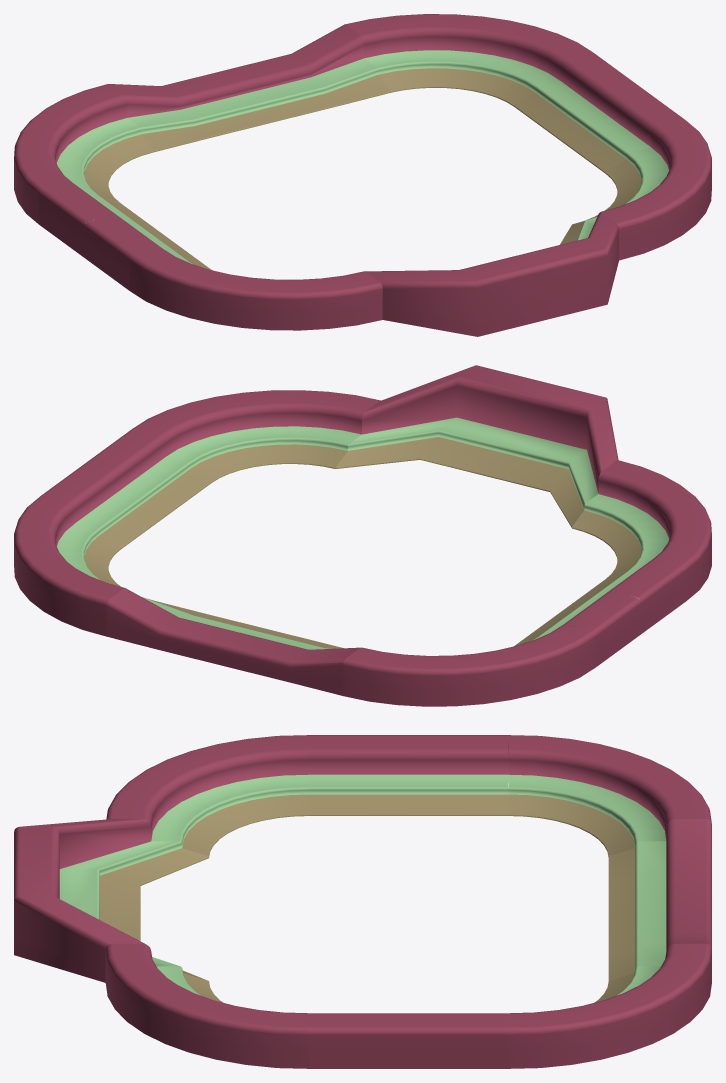
Rendered from Stadium_Complete.fbx.
3 views of the same model, one above another, from view 1: azimuth 30°, elevation 25°; view 2: azimuth 150°, elevation 25°; view 3: azimuth 270°, elevation 25° (orthographic). The views are drawn at different scales.
Visible parts, largest first — view 1: Stadium_Complete; view 2: Stadium_Complete; view 3: Stadium_Complete.
Boxes of the visible parts, left/top/right/bottom form: Stadium_Complete: left=14, top=14, right=711, bottom=336; Stadium_Complete: left=14, top=365, right=711, bottom=706; Stadium_Complete: left=14, top=735, right=711, bottom=1068.
Size of the model in its own units: 5221 by 495 by 5161.
